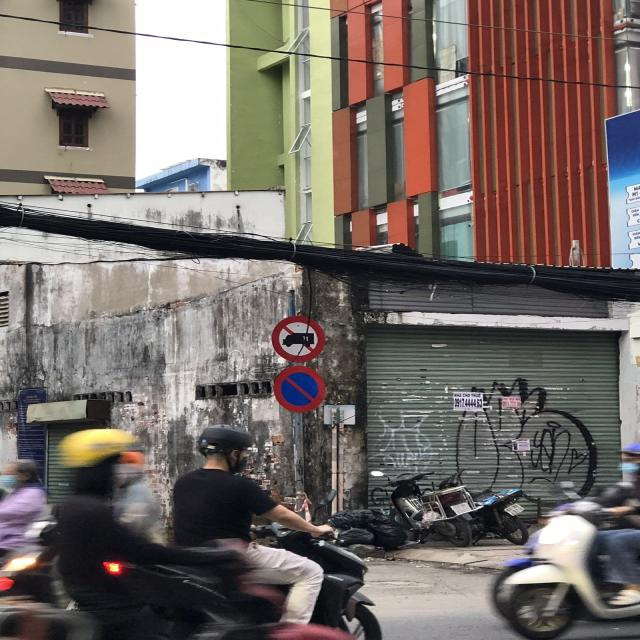Bien bao cam do xe: (269, 362, 331, 417)
Bien bao cam xe oto tai: (269, 310, 327, 365)
